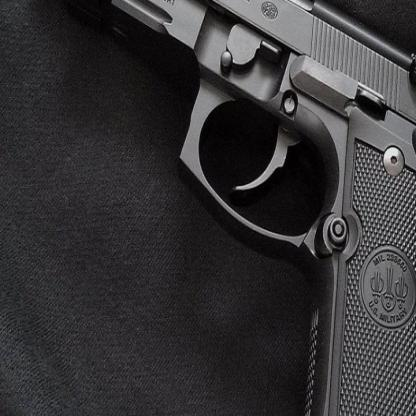gun: (22, 0, 415, 415)
